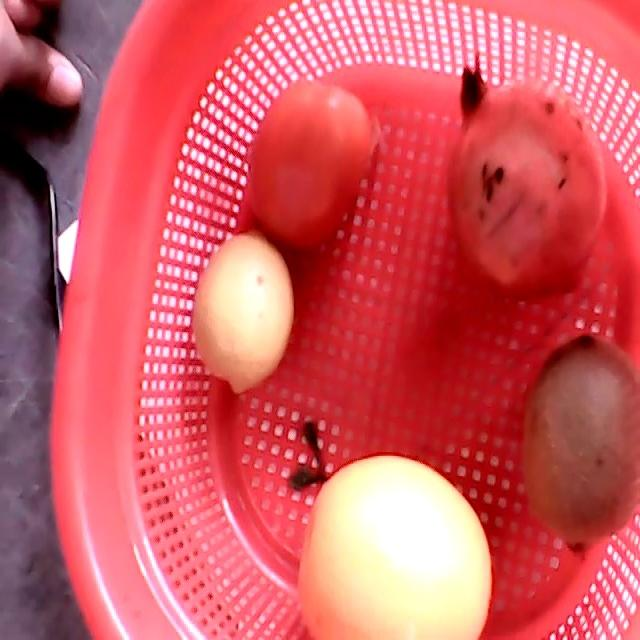lemon: (193, 235, 292, 397)
orange: (298, 454, 490, 639)
pomegranate: (526, 333, 639, 556)
tomato: (249, 80, 371, 249)
